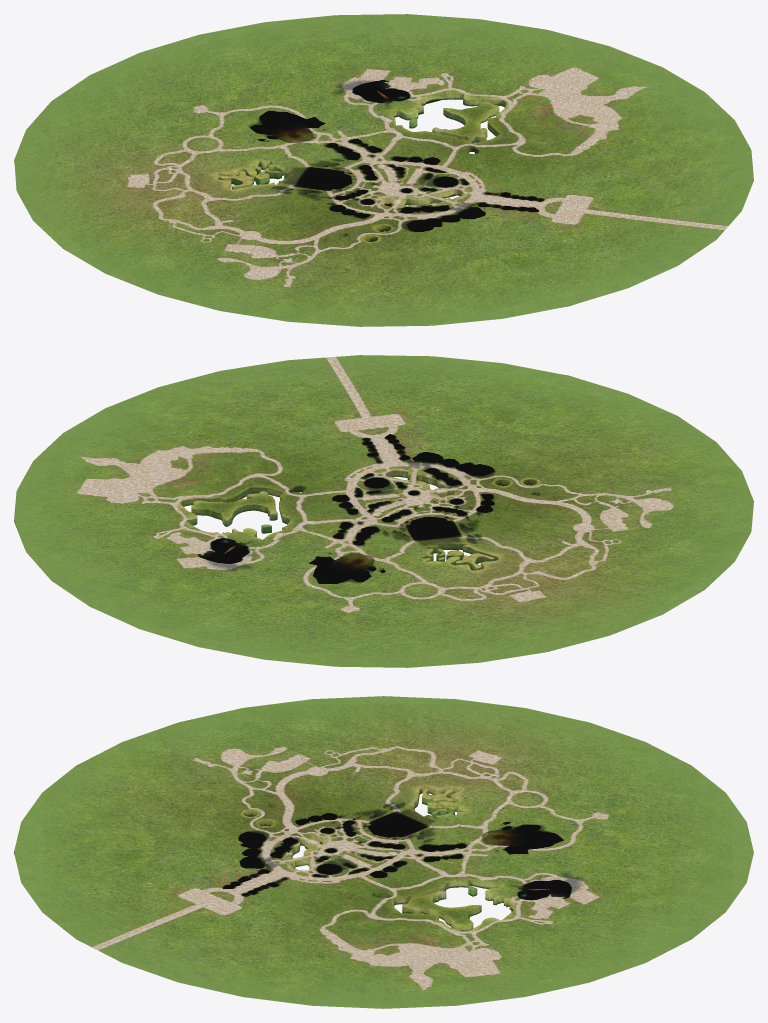
Rendered from ground.glb.
3 renders of one model, top to bottom at view 1: azimuth 30°, elevation 25°; view 2: azimuth 150°, elevation 25°; view 3: azimuth 270°, elevation 25°, orthographic.
Visible parts, largest first — view 1: Ground_Base; view 2: Ground_Base; view 3: Ground_Base.
Boxes of the visible parts, left/top/right/bottom form: Ground_Base: left=14, top=14, right=753, bottom=326; Ground_Base: left=14, top=355, right=753, bottom=667; Ground_Base: left=14, top=696, right=753, bottom=1008.
Size of what is drawn, in the model's own units: 34.41 by 0.3194 by 34.41.
1 material, 1 textured.
